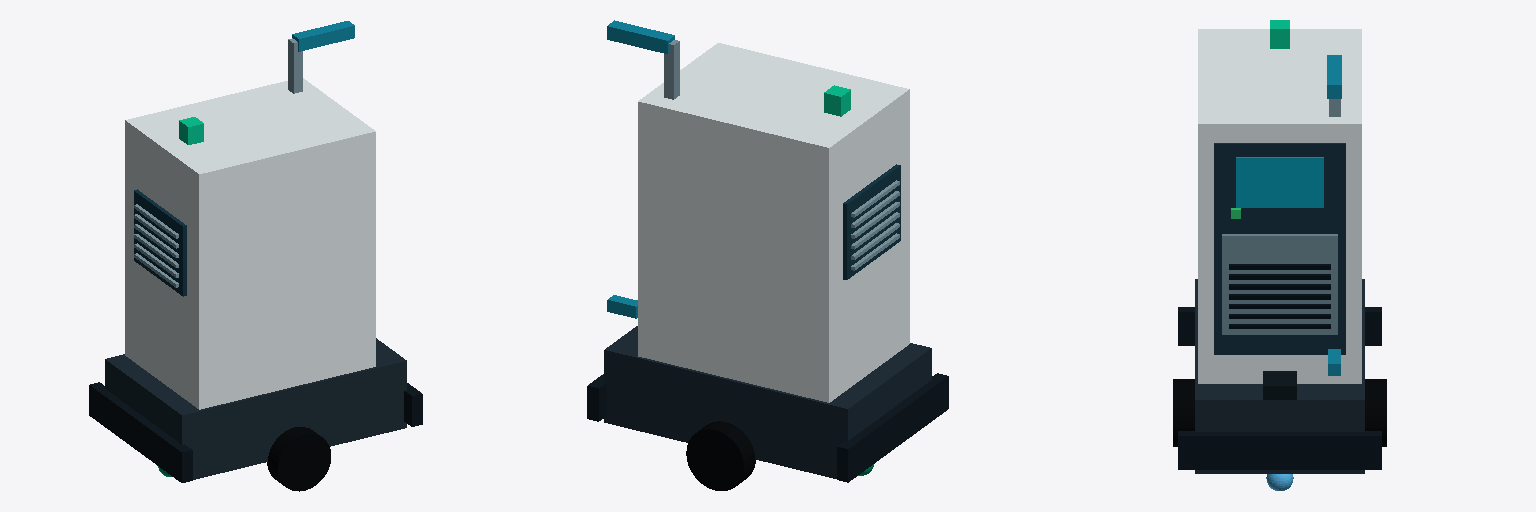
The robot description file, URDF, robot "mobile_amc":
<?xml version='1.0' encoding='utf-8'?>
<robot name="mobile_amc">
  <link name="base_footprint" />
  <link name="base_link">
    <visual>
      <geometry>
        <box size=".84 .50 .24" />
      </geometry>
      <material name="base_link_color">
        <color rgba=".14 .20 .24 1" />
      </material>
    </visual>
    <collision>
      <geometry>
        <box size=".84 .50 .24" />
      </geometry>
    </collision>
    <inertial>
      <mass value="40" />
      <inertia ixx="1.0253333333333332" iyy="2.5439999999999996" izz="3.185333333333333" ixy="0" ixz="0" iyz="0" />
    </inertial>
  </link>
  <joint name="base_link_fixed" type="fixed">
    <parent link="base_footprint" />
    <child link="base_link" />
    <origin xyz="0 0 0.22" rpy="0 0 0" />
  </joint>
  <gazebo reference="base_link">
    <material>Gazebo/DarkGrey</material>
  </gazebo>
  <link name="analyzer_cabinet">
    <visual>
      <geometry>
        <box size=".66 .48 .84" />
      </geometry>
      <material name="analyzer_cabinet_color">
        <color rgba=".91 .94 .95 1" />
      </material>
    </visual>
    <collision>
      <geometry>
        <box size=".66 .48 .84" />
      </geometry>
    </collision>
    <inertial>
      <mass value="20" />
      <inertia ixx="1.5599999999999998" iyy="1.902" izz="1.11" ixy="0" ixz="0" iyz="0" />
    </inertial>
  </link>
  <joint name="analyzer_cabinet_fixed" type="fixed">
    <parent link="base_footprint" />
    <child link="analyzer_cabinet" />
    <origin xyz="-.02 0 .76" rpy="0 0 0" />
  </joint>
  <gazebo reference="analyzer_cabinet">
    <material>Gazebo/White</material>
  </gazebo>
  <link name="bumper_front">
    <visual>
      <geometry>
        <box size=".04 .60 .11" />
      </geometry>
      <material name="bumper_front_color">
        <color rgba=".08 .12 .15 1" />
      </material>
    </visual>
    <collision>
      <geometry>
        <box size=".04 .60 .11" />
      </geometry>
    </collision>
    <inertial>
      <mass value="0.4" />
      <inertia ixx="0.012403333333333334" iyy="0.0004566666666666667" izz="0.012053333333333333" ixy="0" ixz="0" iyz="0" />
    </inertial>
  </link>
  <joint name="bumper_front_fixed" type="fixed">
    <parent link="base_footprint" />
    <child link="bumper_front" />
    <origin xyz=".43 0 .18" rpy="0 0 0" />
  </joint>
  <gazebo reference="bumper_front">
    <material>Gazebo/Black</material>
  </gazebo>
  <link name="bumper_back">
    <visual>
      <geometry>
        <box size=".04 .60 .11" />
      </geometry>
      <material name="bumper_back_color">
        <color rgba=".08 .12 .15 1" />
      </material>
    </visual>
    <collision>
      <geometry>
        <box size=".04 .60 .11" />
      </geometry>
    </collision>
    <inertial>
      <mass value="0.4" />
      <inertia ixx="0.012403333333333334" iyy="0.0004566666666666667" izz="0.012053333333333333" ixy="0" ixz="0" iyz="0" />
    </inertial>
  </link>
  <joint name="bumper_back_fixed" type="fixed">
    <parent link="base_footprint" />
    <child link="bumper_back" />
    <origin xyz="-.43 0 .18" rpy="0 0 0" />
  </joint>
  <gazebo reference="bumper_back">
    <material>Gazebo/Black</material>
  </gazebo>
  <link name="front_panel">
    <visual>
      <geometry>
        <box size=".014 .39 .68" />
      </geometry>
      <material name="front_panel_color">
        <color rgba=".12 .22 .28 1" />
      </material>
    </visual>
  </link>
  <joint name="front_panel_fixed" type="fixed">
    <parent link="base_footprint" />
    <child link="front_panel" />
    <origin xyz=".315 0 .78" rpy="0 0 0" />
  </joint>
  <gazebo reference="front_panel">
    <material>Gazebo/DarkGrey</material>
  </gazebo>
  <link name="display">
    <visual>
      <geometry>
        <box size=".012 .26 .16" />
      </geometry>
      <material name="display_color">
        <color rgba=".05 .62 .72 1" />
      </material>
    </visual>
  </link>
  <joint name="display_fixed" type="fixed">
    <parent link="base_footprint" />
    <child link="display" />
    <origin xyz=".327 0 1.00" rpy="0 0 0" />
  </joint>
  <gazebo reference="display">
    <material>Gazebo/Turquoise</material>
  </gazebo>
  <link name="filter_cartridge">
    <visual>
      <geometry>
        <box size=".02 .34 .32" />
      </geometry>
      <material name="filter_cartridge_color">
        <color rgba=".45 .56 .61 1" />
      </material>
    </visual>
  </link>
  <joint name="filter_cartridge_fixed" type="fixed">
    <parent link="base_footprint" />
    <child link="filter_cartridge" />
    <origin xyz=".325 0 .67" rpy="0 0 0" />
  </joint>
  <gazebo reference="filter_cartridge">
    <material>Gazebo/Grey</material>
  </gazebo>
  <link name="intake_grille_0">
    <visual>
      <geometry>
        <box size=".016 .30 .012" />
      </geometry>
      <material name="intake_grille_0_color">
        <color rgba=".05 .1 .13 1" />
      </material>
    </visual>
  </link>
  <joint name="intake_grille_0_fixed" type="fixed">
    <parent link="base_footprint" />
    <child link="intake_grille_0" />
    <origin xyz=".34 0 0.54" rpy="0 0 0" />
  </joint>
  <gazebo reference="intake_grille_0">
    <material>Gazebo/DarkGrey</material>
  </gazebo>
  <link name="intake_grille_1">
    <visual>
      <geometry>
        <box size=".016 .30 .012" />
      </geometry>
      <material name="intake_grille_1_color">
        <color rgba=".05 .1 .13 1" />
      </material>
    </visual>
  </link>
  <joint name="intake_grille_1_fixed" type="fixed">
    <parent link="base_footprint" />
    <child link="intake_grille_1" />
    <origin xyz=".34 0 0.5720000000000001" rpy="0 0 0" />
  </joint>
  <gazebo reference="intake_grille_1">
    <material>Gazebo/DarkGrey</material>
  </gazebo>
  <link name="intake_grille_2">
    <visual>
      <geometry>
        <box size=".016 .30 .012" />
      </geometry>
      <material name="intake_grille_2_color">
        <color rgba=".05 .1 .13 1" />
      </material>
    </visual>
  </link>
  <joint name="intake_grille_2_fixed" type="fixed">
    <parent link="base_footprint" />
    <child link="intake_grille_2" />
    <origin xyz=".34 0 0.6040000000000001" rpy="0 0 0" />
  </joint>
  <gazebo reference="intake_grille_2">
    <material>Gazebo/DarkGrey</material>
  </gazebo>
  <link name="intake_grille_3">
    <visual>
      <geometry>
        <box size=".016 .30 .012" />
      </geometry>
      <material name="intake_grille_3_color">
        <color rgba=".05 .1 .13 1" />
      </material>
    </visual>
  </link>
  <joint name="intake_grille_3_fixed" type="fixed">
    <parent link="base_footprint" />
    <child link="intake_grille_3" />
    <origin xyz=".34 0 0.636" rpy="0 0 0" />
  </joint>
  <gazebo reference="intake_grille_3">
    <material>Gazebo/DarkGrey</material>
  </gazebo>
  <link name="intake_grille_4">
    <visual>
      <geometry>
        <box size=".016 .30 .012" />
      </geometry>
      <material name="intake_grille_4_color">
        <color rgba=".05 .1 .13 1" />
      </material>
    </visual>
  </link>
  <joint name="intake_grille_4_fixed" type="fixed">
    <parent link="base_footprint" />
    <child link="intake_grille_4" />
    <origin xyz=".34 0 0.668" rpy="0 0 0" />
  </joint>
  <gazebo reference="intake_grille_4">
    <material>Gazebo/DarkGrey</material>
  </gazebo>
  <link name="intake_grille_5">
    <visual>
      <geometry>
        <box size=".016 .30 .012" />
      </geometry>
      <material name="intake_grille_5_color">
        <color rgba=".05 .1 .13 1" />
      </material>
    </visual>
  </link>
  <joint name="intake_grille_5_fixed" type="fixed">
    <parent link="base_footprint" />
    <child link="intake_grille_5" />
    <origin xyz=".34 0 0.7000000000000001" rpy="0 0 0" />
  </joint>
  <gazebo reference="intake_grille_5">
    <material>Gazebo/DarkGrey</material>
  </gazebo>
  <link name="intake_grille_6">
    <visual>
      <geometry>
        <box size=".016 .30 .012" />
      </geometry>
      <material name="intake_grille_6_color">
        <color rgba=".05 .1 .13 1" />
      </material>
    </visual>
  </link>
  <joint name="intake_grille_6_fixed" type="fixed">
    <parent link="base_footprint" />
    <child link="intake_grille_6" />
    <origin xyz=".34 0 0.732" rpy="0 0 0" />
  </joint>
  <gazebo reference="intake_grille_6">
    <material>Gazebo/DarkGrey</material>
  </gazebo>
  <link name="molecular_filter_indicator">
    <visual>
      <geometry>
        <box size=".018 .03 .03" />
      </geometry>
      <material name="molecular_filter_indicator_color">
        <color rgba=".2 .8 .45 1" />
      </material>
    </visual>
  </link>
  <joint name="molecular_filter_indicator_fixed" type="fixed">
    <parent link="base_footprint" />
    <child link="molecular_filter_indicator" />
    <origin xyz=".329 -.13 .90" rpy="0 0 0" />
  </joint>
  <gazebo reference="molecular_filter_indicator">
    <material>Gazebo/White</material>
  </gazebo>
  <link name="sampling_mast">
    <visual>
      <geometry>
        <box size=".035 .035 .24" />
      </geometry>
      <material name="sampling_mast_color">
        <color rgba=".52 .62 .66 1" />
      </material>
    </visual>
    <collision>
      <geometry>
        <box size=".035 .035 .24" />
      </geometry>
    </collision>
    <inertial>
      <mass value="0.2" />
      <inertia ixx="0.0009804166666666665" iyy="0.0009804166666666665" izz="4.083333333333334e-05" ixy="0" ixz="0" iyz="0" />
    </inertial>
  </link>
  <joint name="sampling_mast_fixed" type="fixed">
    <parent link="base_footprint" />
    <child link="sampling_mast" />
    <origin xyz=".24 .16 1.24" rpy="0 0 0" />
  </joint>
  <gazebo reference="sampling_mast">
    <material>Gazebo/Grey</material>
  </gazebo>
  <link name="sampling_inlet">
    <visual>
      <geometry>
        <box size=".21 .045 .045" />
      </geometry>
      <material name="sampling_inlet_color">
        <color rgba=".09 .55 .66 1" />
      </material>
    </visual>
    <collision>
      <geometry>
        <box size=".21 .045 .045" />
      </geometry>
    </collision>
    <inertial>
      <mass value="0.1" />
      <inertia ixx="3.375e-05" iyy="0.00038437499999999995" izz="0.00038437499999999995" ixy="0" ixz="0" iyz="0" />
    </inertial>
  </link>
  <joint name="sampling_inlet_fixed" type="fixed">
    <parent link="base_footprint" />
    <child link="sampling_inlet" />
    <origin xyz=".345 .16 1.35" rpy="0 0 0" />
  </joint>
  <gazebo reference="sampling_inlet">
    <material>Gazebo/Turquoise</material>
  </gazebo>
  <link name="rear_exhaust">
    <visual>
      <geometry>
        <box size=".015 .32 .25" />
      </geometry>
      <material name="rear_exhaust_color">
        <color rgba=".1 .24 .3 1" />
      </material>
    </visual>
  </link>
  <joint name="rear_exhaust_fixed" type="fixed">
    <parent link="base_footprint" />
    <child link="rear_exhaust" />
    <origin xyz="-.357 0 .84" rpy="0 0 0" />
  </joint>
  <gazebo reference="rear_exhaust">
    <material>Gazebo/DarkGrey</material>
  </gazebo>
  <link name="exhaust_grille_0">
    <visual>
      <geometry>
        <box size=".013 .27 .012" />
      </geometry>
      <material name="exhaust_grille_0_color">
        <color rgba=".52 .63 .67 1" />
      </material>
    </visual>
  </link>
  <joint name="exhaust_grille_0_fixed" type="fixed">
    <parent link="base_footprint" />
    <child link="exhaust_grille_0" />
    <origin xyz="-.37 0 0.745" rpy="0 0 0" />
  </joint>
  <gazebo reference="exhaust_grille_0">
    <material>Gazebo/DarkGrey</material>
  </gazebo>
  <link name="exhaust_grille_1">
    <visual>
      <geometry>
        <box size=".013 .27 .012" />
      </geometry>
      <material name="exhaust_grille_1_color">
        <color rgba=".52 .63 .67 1" />
      </material>
    </visual>
  </link>
  <joint name="exhaust_grille_1_fixed" type="fixed">
    <parent link="base_footprint" />
    <child link="exhaust_grille_1" />
    <origin xyz="-.37 0 0.78" rpy="0 0 0" />
  </joint>
  <gazebo reference="exhaust_grille_1">
    <material>Gazebo/DarkGrey</material>
  </gazebo>
  <link name="exhaust_grille_2">
    <visual>
      <geometry>
        <box size=".013 .27 .012" />
      </geometry>
      <material name="exhaust_grille_2_color">
        <color rgba=".52 .63 .67 1" />
      </material>
    </visual>
  </link>
  <joint name="exhaust_grille_2_fixed" type="fixed">
    <parent link="base_footprint" />
    <child link="exhaust_grille_2" />
    <origin xyz="-.37 0 0.815" rpy="0 0 0" />
  </joint>
  <gazebo reference="exhaust_grille_2">
    <material>Gazebo/DarkGrey</material>
  </gazebo>
  <link name="exhaust_grille_3">
    <visual>
      <geometry>
        <box size=".013 .27 .012" />
      </geometry>
      <material name="exhaust_grille_3_color">
        <color rgba=".52 .63 .67 1" />
      </material>
    </visual>
  </link>
  <joint name="exhaust_grille_3_fixed" type="fixed">
    <parent link="base_footprint" />
    <child link="exhaust_grille_3" />
    <origin xyz="-.37 0 0.85" rpy="0 0 0" />
  </joint>
  <gazebo reference="exhaust_grille_3">
    <material>Gazebo/DarkGrey</material>
  </gazebo>
  <link name="exhaust_grille_4">
    <visual>
      <geometry>
        <box size=".013 .27 .012" />
      </geometry>
      <material name="exhaust_grille_4_color">
        <color rgba=".52 .63 .67 1" />
      </material>
    </visual>
  </link>
  <joint name="exhaust_grille_4_fixed" type="fixed">
    <parent link="base_footprint" />
    <child link="exhaust_grille_4" />
    <origin xyz="-.37 0 0.885" rpy="0 0 0" />
  </joint>
  <gazebo reference="exhaust_grille_4">
    <material>Gazebo/DarkGrey</material>
  </gazebo>
  <link name="exhaust_grille_5">
    <visual>
      <geometry>
        <box size=".013 .27 .012" />
      </geometry>
      <material name="exhaust_grille_5_color">
        <color rgba=".52 .63 .67 1" />
      </material>
    </visual>
  </link>
  <joint name="exhaust_grille_5_fixed" type="fixed">
    <parent link="base_footprint" />
    <child link="exhaust_grille_5" />
    <origin xyz="-.37 0 0.92" rpy="0 0 0" />
  </joint>
  <gazebo reference="exhaust_grille_5">
    <material>Gazebo/DarkGrey</material>
  </gazebo>
  <link name="beacon">
    <visual>
      <geometry>
        <box size=".06 .06 .07" />
      </geometry>
      <material name="beacon_color">
        <color rgba=".05 .8 .6 1" />
      </material>
    </visual>
    <collision>
      <geometry>
        <box size=".06 .06 .07" />
      </geometry>
    </collision>
    <inertial>
      <mass value="0.1" />
      <inertia ixx="7.083333333333334e-05" iyy="7.083333333333334e-05" izz="6e-05" ixy="0" ixz="0" iyz="0" />
    </inertial>
  </link>
  <joint name="beacon_fixed" type="fixed">
    <parent link="base_footprint" />
    <child link="beacon" />
    <origin xyz="-.24 0 1.21" rpy="0 0 0" />
  </joint>
  <gazebo reference="beacon">
    <material>Gazebo/Green</material>
  </gazebo>
  <link name="sampling_inlet_low">
    <visual>
      <geometry>
        <box size=".10 .04 .04" />
      </geometry>
      <material name="sampling_inlet_low_color">
        <color rgba=".09 .55 .66 1" />
      </material>
    </visual>
    <collision>
      <geometry>
        <box size=".10 .04 .04" />
      </geometry>
    </collision>
    <inertial>
      <mass value="0.05" />
      <inertia ixx="1.3333333333333335e-05" iyy="4.833333333333334e-05" izz="4.833333333333334e-05" ixy="0" ixz="0" iyz="0" />
    </inertial>
  </link>
  <joint name="sampling_inlet_low_fixed" type="fixed">
    <parent link="base_footprint" />
    <child link="sampling_inlet_low" />
    <origin xyz=".40 .16 .45" rpy="0 0 0" />
  </joint>
  <gazebo reference="sampling_inlet_low">
    <material>Gazebo/White</material>
  </gazebo>
  <!-- icir_cleanroom: the gas sensor plugin resolves this link in Gazebo, so it
       must survive URDF->SDF fixed-joint lumping. Visual only: a collision here
       would sit in front of the bumper. -->
  <link name="gas_sensor_link">
    <visual>
      <geometry>
        <cylinder radius="0.02" length="0.03" />
      </geometry>
      <material name="gas_sensor_color">
        <color rgba="1 .85 .1 1" />
      </material>
    </visual>
    <inertial>
      <mass value="0.02" />
      <inertia ixx="3.75e-06" iyy="3.75e-06" izz="4.0e-06" ixy="0" ixz="0" iyz="0" />
    </inertial>
  </link>
  <joint name="gas_sensor_link_fixed" type="fixed">
    <parent link="base_footprint" />
    <child link="gas_sensor_link" />
    <origin xyz="0 0 .45" rpy="0 0 0" />
  </joint>
  <gazebo reference="gas_sensor_link_fixed">
    <preserveFixedJoint>true</preserveFixedJoint>
    <disableFixedJointLumping>true</disableFixedJointLumping>
  </gazebo>
  <gazebo reference="gas_sensor_link">
    <material>Gazebo/Yellow</material>
  </gazebo>
  <link name="gas_sensor_high_link" />
  <joint name="gas_sensor_high_link_fixed" type="fixed">
    <parent link="base_footprint" />
    <child link="gas_sensor_high_link" />
    <origin xyz=".45 .16 1.35" rpy="0 0 0" />
  </joint>
  <link name="purifier_inlet_link" />
  <joint name="purifier_inlet_link_fixed" type="fixed">
    <parent link="base_footprint" />
    <child link="purifier_inlet_link" />
    <origin xyz=".38 0 .64" rpy="0 0 0" />
  </joint>
  <link name="purifier_outlet_link" />
  <joint name="purifier_outlet_link_fixed" type="fixed">
    <parent link="base_footprint" />
    <child link="purifier_outlet_link" />
    <origin xyz="-.38 0 .84" rpy="0 0 0" />
  </joint>
  <link name="wheel_left_link">
    <visual>
      <origin xyz="0 0 0" rpy="1.57079632679 0 0" />
      <geometry>
        <cylinder radius="0.1" length="0.07" />
      </geometry>
      <material name="tire_left">
        <color rgba=".05 .06 .07 1" />
      </material>
    </visual>
    <collision>
      <origin xyz="0 0 0" rpy="1.57079632679 0 0" />
      <geometry>
        <cylinder radius="0.1" length="0.07" />
      </geometry>
    </collision>
    <inertial>
      <mass value="2" />
      <inertia ixx="0.0058" iyy="0.01" izz="0.0058" ixy="0" ixz="0" iyz="0" />
    </inertial>
  </link>
  <joint name="wheel_left_joint" type="continuous">
    <parent link="base_footprint" />
    <child link="wheel_left_link" />
    <origin xyz="0 0.28 .1" rpy="0 0 0" />
    <axis xyz="0 1 0" />
    <dynamics damping="0.05" friction="0" />
  </joint>
  <gazebo reference="wheel_left_link">
    <mu1>1</mu1>
    <mu2>1</mu2>
    <material>Gazebo/Black</material>
  </gazebo>
  <link name="wheel_right_link">
    <visual>
      <origin xyz="0 0 0" rpy="1.57079632679 0 0" />
      <geometry>
        <cylinder radius="0.1" length="0.07" />
      </geometry>
      <material name="tire_right">
        <color rgba=".05 .06 .07 1" />
      </material>
    </visual>
    <collision>
      <origin xyz="0 0 0" rpy="1.57079632679 0 0" />
      <geometry>
        <cylinder radius="0.1" length="0.07" />
      </geometry>
    </collision>
    <inertial>
      <mass value="2" />
      <inertia ixx="0.0058" iyy="0.01" izz="0.0058" ixy="0" ixz="0" iyz="0" />
    </inertial>
  </link>
  <joint name="wheel_right_joint" type="continuous">
    <parent link="base_footprint" />
    <child link="wheel_right_link" />
    <origin xyz="0 -0.28 .1" rpy="0 0 0" />
    <axis xyz="0 1 0" />
    <dynamics damping="0.05" friction="0" />
  </joint>
  <gazebo reference="wheel_right_link">
    <mu1>1</mu1>
    <mu2>1</mu2>
    <material>Gazebo/Black</material>
  </gazebo>
  <link name="caster_front">
    <visual>
      <geometry>
        <sphere radius="0.04" />
      </geometry>
    </visual>
    <collision>
      <geometry>
        <sphere radius="0.04" />
      </geometry>
    </collision>
    <inertial>
      <mass value="0.2" />
      <inertia ixx="0.000128" iyy="0.000128" izz="0.000128" ixy="0" ixz="0" iyz="0" />
    </inertial>
  </link>
  <joint name="caster_front_fixed" type="fixed">
    <parent link="base_footprint" />
    <child link="caster_front" />
    <origin xyz="0.32 0 .04" rpy="0 0 0" />
  </joint>
  <gazebo reference="caster_front">
    <mu1>0.001</mu1>
    <mu2>0.001</mu2>
  </gazebo>
  <link name="caster_rear">
    <visual>
      <geometry>
        <sphere radius="0.04" />
      </geometry>
    </visual>
    <collision>
      <geometry>
        <sphere radius="0.04" />
      </geometry>
    </collision>
    <inertial>
      <mass value="0.2" />
      <inertia ixx="0.000128" iyy="0.000128" izz="0.000128" ixy="0" ixz="0" iyz="0" />
    </inertial>
  </link>
  <joint name="caster_rear_fixed" type="fixed">
    <parent link="base_footprint" />
    <child link="caster_rear" />
    <origin xyz="-0.32 0 .04" rpy="0 0 0" />
  </joint>
  <gazebo reference="caster_rear">
    <mu1>0.001</mu1>
    <mu2>0.001</mu2>
  </gazebo>
  <link name="base_scan">
    <visual>
      <geometry>
        <box size=".10 .10 .05" />
      </geometry>
      <material name="base_scan_color">
        <color rgba=".08 .12 .14 1" />
      </material>
    </visual>
    <collision>
      <geometry>
        <box size=".10 .10 .05" />
      </geometry>
    </collision>
    <inertial>
      <mass value="0.15" />
      <inertia ixx="0.00015625000000000003" iyy="0.00015625000000000003" izz="0.00025000000000000006" ixy="0" ixz="0" iyz="0" />
    </inertial>
  </link>
  <joint name="base_scan_fixed" type="fixed">
    <parent link="base_footprint" />
    <child link="base_scan" />
    <origin xyz=".37 0 .36" rpy="0 0 0" />
  </joint>
  <gazebo reference="base_scan">
    <material>Gazebo/Black</material>
  </gazebo>
  <gazebo reference="base_scan">
    <sensor name="amc_lidar" type="ray">
      <always_on>true</always_on>
      <update_rate>10</update_rate>
      <visualize>false</visualize>
      <ray>
        <scan>
          <horizontal>
            <samples>720</samples>
            <resolution>1</resolution>
            <min_angle>-3.14159265</min_angle>
            <max_angle>3.14159265</max_angle>
          </horizontal>
        </scan>
        <range>
          <min>0.12</min>
          <max>12</max>
          <resolution>0.01</resolution>
        </range>
      </ray>
      <plugin name="amc_lidar_ros" filename="libgazebo_ros_ray_sensor.so">
        <ros>
          <remapping>~/out:=scan</remapping>
        </ros>
        <output_type>sensor_msgs/LaserScan</output_type>
        <frame_name>base_scan</frame_name>
      </plugin>
    </sensor>
  </gazebo>
  <gazebo>
    <plugin name="amc_diff_drive" filename="libgazebo_ros_diff_drive.so">
      <update_rate>50</update_rate>
      <left_joint>wheel_left_joint</left_joint>
      <right_joint>wheel_right_joint</right_joint>
      <wheel_separation>0.56</wheel_separation>
      <wheel_diameter>0.2</wheel_diameter>
      <max_wheel_torque>35</max_wheel_torque>
      <max_wheel_acceleration>0.6</max_wheel_acceleration>
      <publish_odom>true</publish_odom>
      <publish_odom_tf>true</publish_odom_tf>
      <publish_wheel_tf>false</publish_wheel_tf>
      <odometry_frame>odom</odometry_frame>
      <robot_base_frame>base_footprint</robot_base_frame>
      <!-- icir_cleanroom: 1 = world ground truth. The shared launch publishes
           an identity map->odom, so encoder odometry (0) would offset the
           robot in map by its spawn pose. -->
      <odometry_source>1</odometry_source>
    </plugin>
    <!-- icir_cleanroom: publishes /gas_sensor/sensor_pose, which
         gas_environment_node samples for concentration. -->
    <plugin name="gas_sensor_plugin" filename="libgas_sensor_plugin.so">
      <sensor_link_name>gas_sensor_link</sensor_link_name>
      <detector_radius>0.02</detector_radius>
      <sigma>1.5</sigma>
      <update_rate>20.0</update_rate>
    </plugin>
    <plugin name="amc_joint_states" filename="libgazebo_ros_joint_state_publisher.so">
      <update_rate>30</update_rate>
      <joint_name>wheel_left_joint</joint_name>
      <joint_name>wheel_right_joint</joint_name>
    </plugin>
  </gazebo>
</robot>

--- What the picture shows (computed from the rendered views, not written in the file) ---
Views: 3 orthographic renders of the robot side by side, from view 1: azimuth 30°, elevation 25°; view 2: azimuth 150°, elevation 25°; view 3: azimuth 270°, elevation 25°.
Model mobile_amc with 36 links and 35 joints (2 continuous, 33 fixed), rooted at base_footprint, posed all joints at 0.
Visible links, largest first — view 1: analyzer_cabinet, base_link, bumper_back, wheel_right_link, rear_exhaust, sampling_inlet, sampling_mast, bumper_front, beacon; view 2: analyzer_cabinet, base_link, bumper_back, wheel_left_link, rear_exhaust, sampling_inlet, sampling_mast, bumper_front, beacon, sampling_inlet_low; view 3: analyzer_cabinet, front_panel, base_link, bumper_front, filter_cartridge, display, bumper_back, wheel_left_link, wheel_right_link, base_scan, sampling_inlet, intake_grille_3 (+4 smaller).
Link boxes in pixels (x1=…): analyzer_cabinet: x1=125, y1=78, x2=375, y2=409; base_link: x1=105, y1=338, x2=406, y2=479; bumper_back: x1=89, y1=382, x2=192, y2=482; wheel_right_link: x1=267, y1=427, x2=330, y2=491; rear_exhaust: x1=134, y1=189, x2=186, y2=296; sampling_inlet: x1=292, y1=21, x2=354, y2=51; sampling_mast: x1=288, y1=38, x2=302, y2=93; bumper_front: x1=404, y1=383, x2=422, y2=426; beacon: x1=179, y1=117, x2=203, y2=144; analyzer_cabinet: x1=638, y1=43, x2=909, y2=402; base_link: x1=604, y1=326, x2=931, y2=478; bumper_back: x1=837, y1=373, x2=948, y2=482; wheel_left_link: x1=686, y1=421, x2=755, y2=490; rear_exhaust: x1=843, y1=164, x2=900, y2=279; sampling_inlet: x1=607, y1=20, x2=674, y2=53; sampling_mast: x1=664, y1=40, x2=679, y2=99; bumper_front: x1=587, y1=374, x2=606, y2=421; beacon: x1=824, y1=85, x2=850, y2=116; sampling_inlet_low: x1=607, y1=295, x2=637, y2=318; analyzer_cabinet: x1=1198, y1=29, x2=1361, y2=383; front_panel: x1=1214, y1=143, x2=1345, y2=354; base_link: x1=1195, y1=279, x2=1364, y2=473; bumper_front: x1=1178, y1=431, x2=1381, y2=469; filter_cartridge: x1=1222, y1=234, x2=1337, y2=334; display: x1=1236, y1=157, x2=1323, y2=207; bumper_back: x1=1178, y1=307, x2=1381, y2=345; wheel_left_link: x1=1365, y1=379, x2=1386, y2=446; wheel_right_link: x1=1173, y1=379, x2=1194, y2=446; base_scan: x1=1263, y1=371, x2=1296, y2=399; sampling_inlet: x1=1327, y1=55, x2=1341, y2=98; intake_grille_3: x1=1229, y1=294, x2=1330, y2=299.
Bounding box of the posed robot: 0.9 × 0.63 × 1.37 m (x, y, z).
Geometry: primitives only (box / cylinder / sphere), no mesh files.
